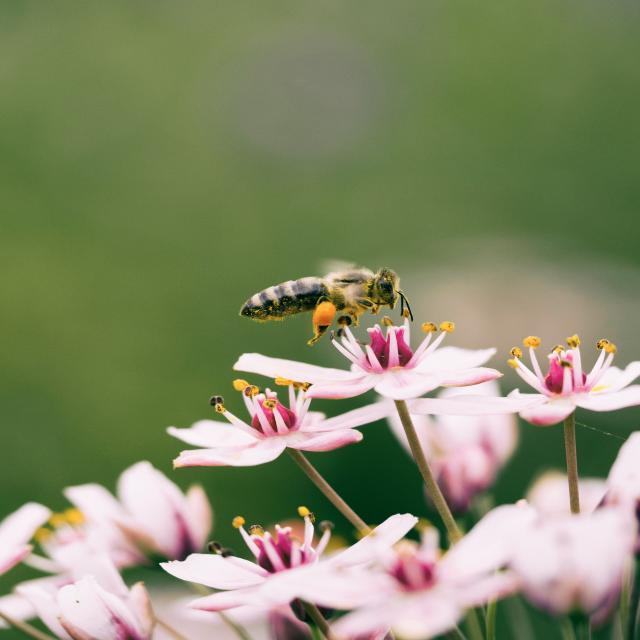bee: (238, 255, 415, 350)
